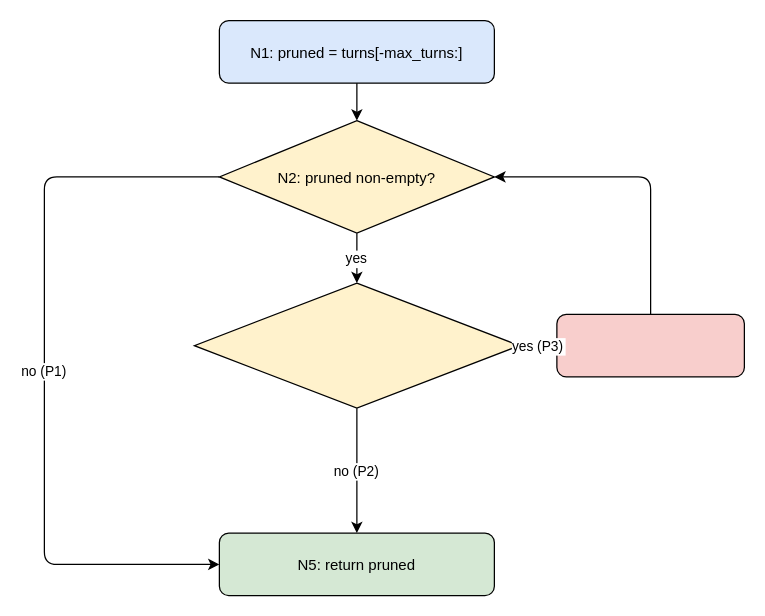
This 765x616 diagram has some shape labels left out. The shapes that lost their labels are listed below. From the top down, each one's centre as x and y in pixels, then its label:
At [356,345]: "N3: tokens(pruned) > max_tokens?".
At [650,345]: "N4: pruned = pruned[1:]".
